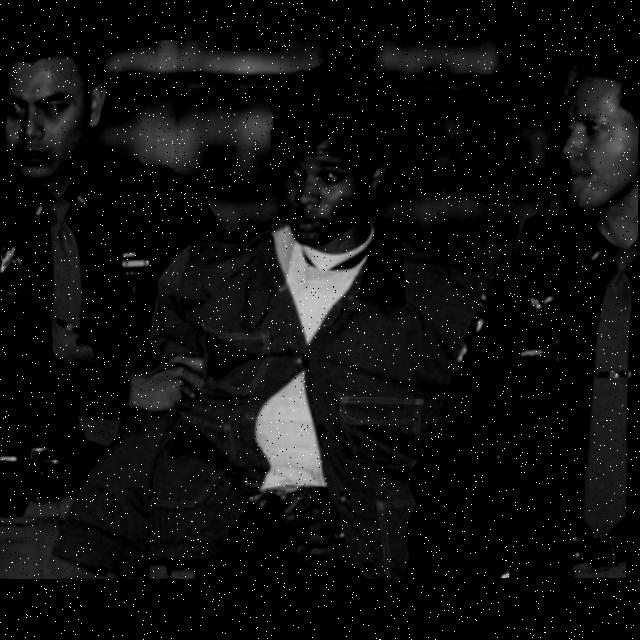face: (267, 77, 395, 244), (540, 55, 639, 229), (3, 42, 105, 196)
